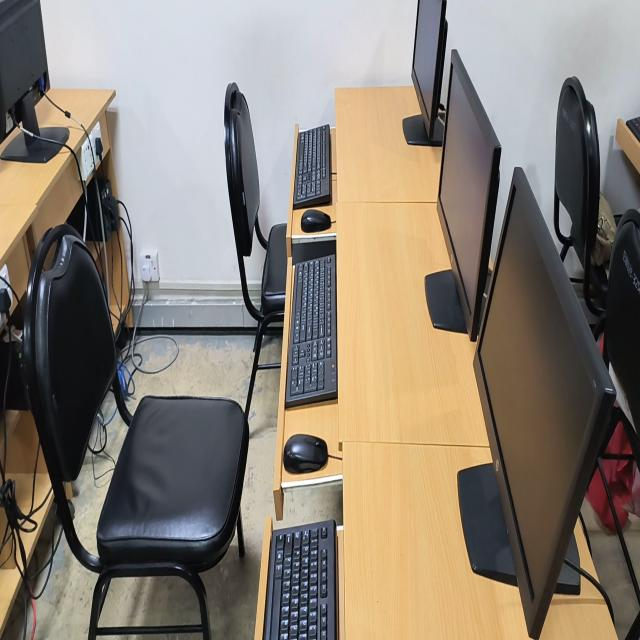Chair: (23, 225, 249, 639), (224, 82, 286, 340), (553, 77, 606, 319)
Keyboard: (263, 519, 338, 639), (285, 254, 337, 407), (293, 124, 331, 209), (626, 117, 640, 141)
Monitor: (458, 167, 616, 639), (426, 50, 501, 341), (0, 0, 69, 163), (403, 0, 447, 146)
Mouse: (283, 434, 328, 473), (301, 210, 331, 232)
